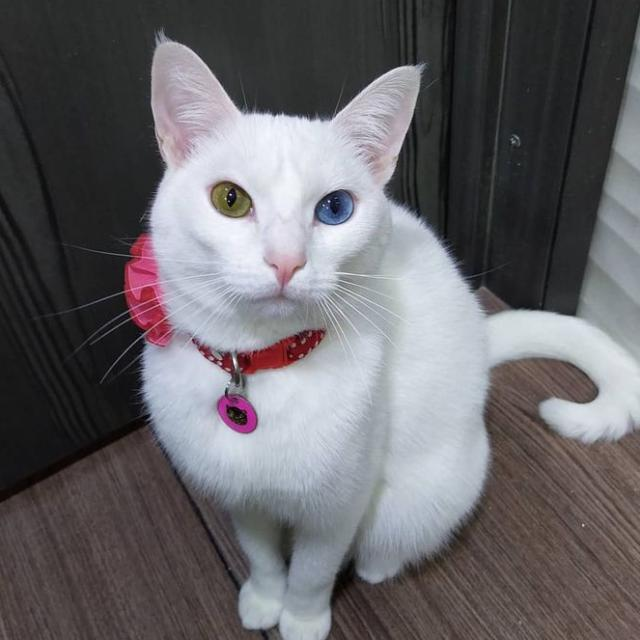Khao Manee: (118, 30, 640, 640)
